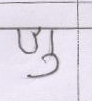u_matra: (30, 54, 62, 79)
